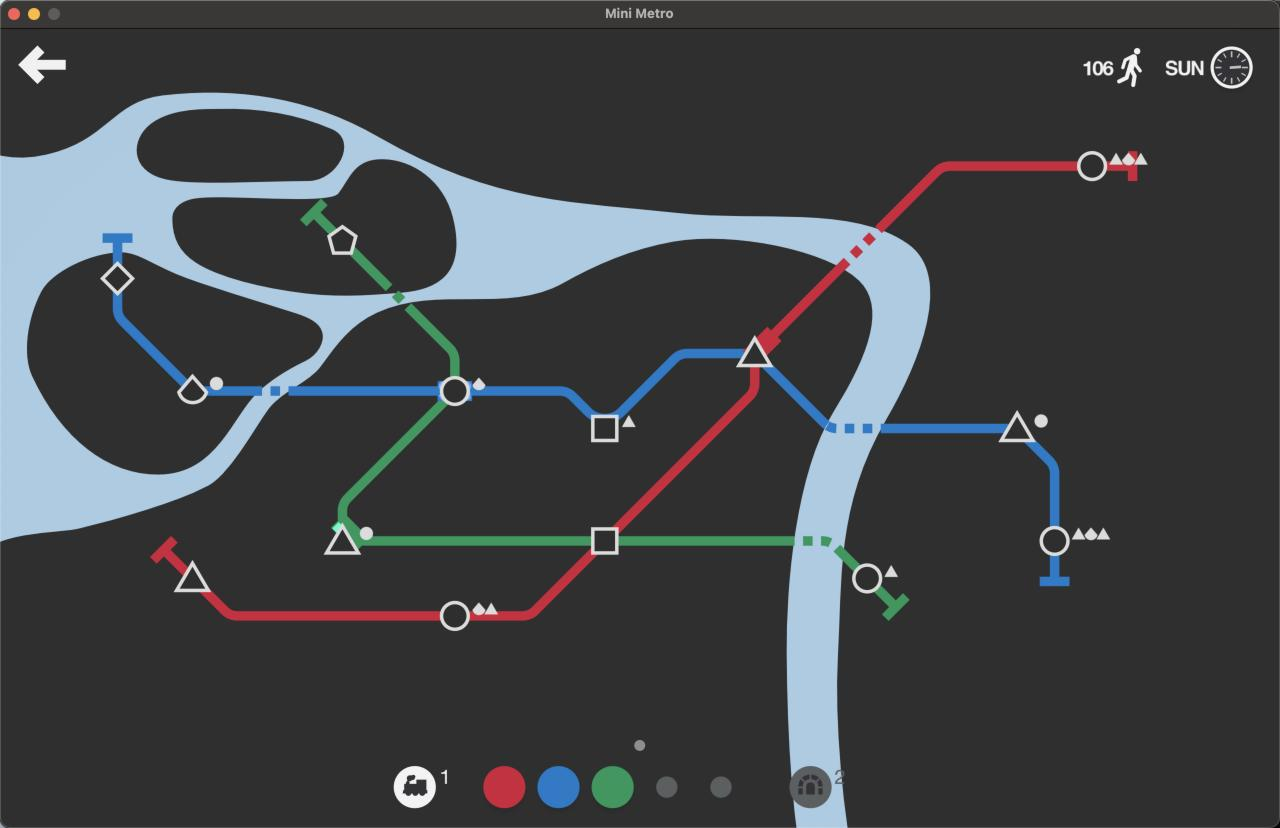CIRCLE: (1038, 524, 1072, 557), (438, 375, 472, 407), (439, 599, 470, 632), (851, 562, 882, 594), (1077, 150, 1108, 181)
GEM: (100, 261, 135, 296)
PENTAGON: (327, 224, 357, 256)
SQUARE: (590, 525, 619, 557), (590, 414, 620, 443)
TRIANGLE: (323, 520, 364, 556), (174, 559, 212, 594), (998, 410, 1036, 444), (737, 334, 773, 368)
WEDGE: (176, 373, 208, 405)
